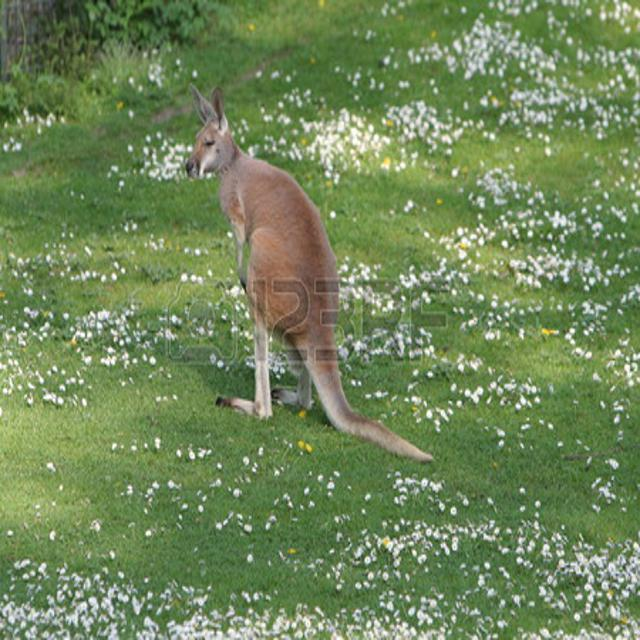kangaroo: (178, 77, 350, 427)
